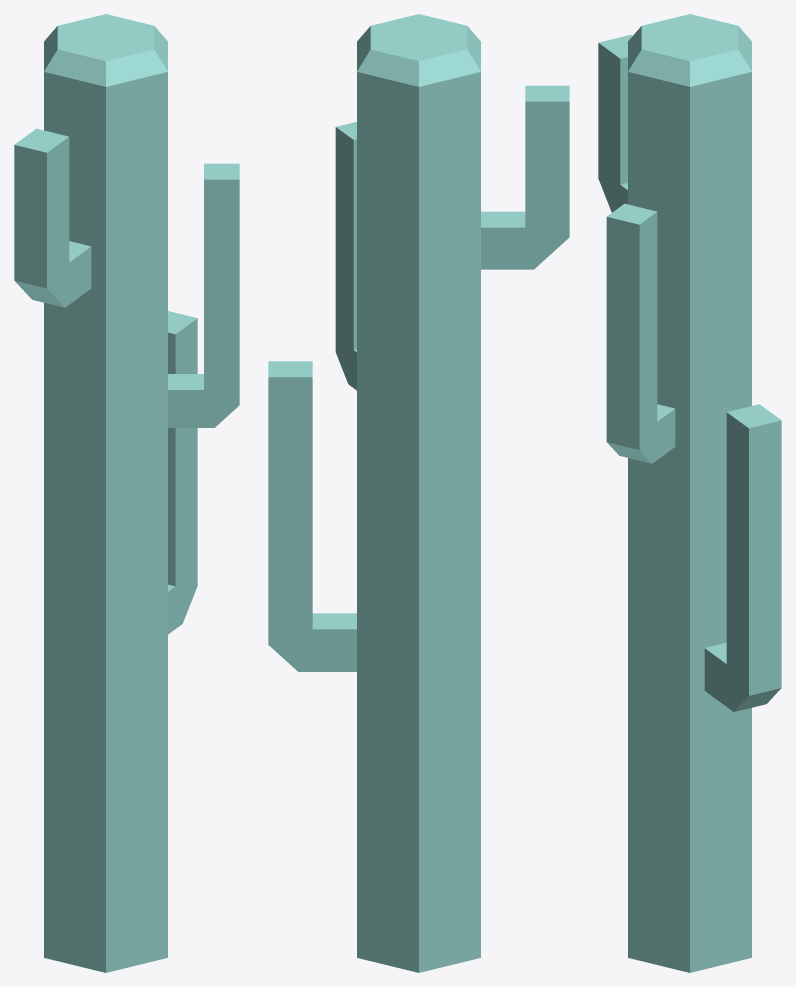
Rendered from cactus_tall.glb.
3 renders of one model, left to right at view 1: azimuth 30°, elevation 25°; view 2: azimuth 150°, elevation 25°; view 3: azimuth 270°, elevation 25°, orthographic.
Visible parts, largest first — view 1: cactus_tall; view 2: cactus_tall; view 3: cactus_tall.
Part boxes in pixels (box(x1,y1,x2,y2)): cactus_tall: box(14, 14, 239, 972); cactus_tall: box(268, 14, 569, 972); cactus_tall: box(598, 14, 781, 972).
Size of the model in its own units: 0.2058 by 0.7347 by 0.1349.
